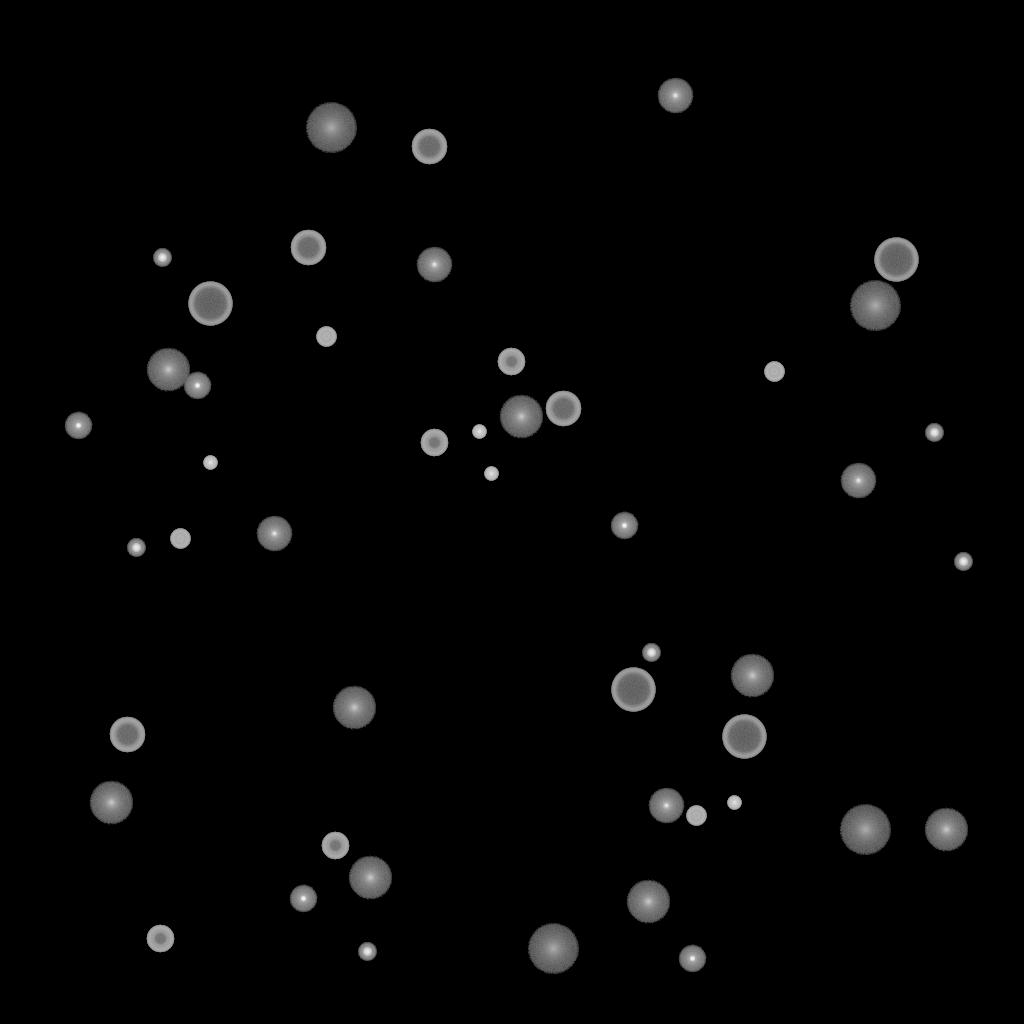depth:-10: (183, 372, 211, 400), (64, 412, 92, 440), (678, 945, 706, 973), (289, 885, 317, 913), (610, 512, 638, 540)
depth:-20: (127, 539, 145, 557), (925, 424, 943, 442), (954, 553, 972, 571), (153, 249, 171, 267), (358, 943, 376, 961), (642, 644, 660, 662)
depth:-30: (472, 425, 486, 439), (727, 796, 741, 810), (484, 467, 498, 481), (203, 456, 217, 470)
depth:-40: (170, 529, 190, 549), (316, 327, 336, 347), (686, 806, 706, 826), (764, 362, 784, 382)
depth:-50: (146, 925, 174, 953), (497, 348, 525, 376), (321, 832, 349, 860), (420, 429, 448, 457)
depth:-60: (411, 129, 447, 165), (109, 717, 145, 753), (290, 230, 326, 266), (545, 391, 581, 427)
depth:-70: (874, 238, 918, 282), (188, 282, 232, 326), (611, 668, 655, 712), (722, 715, 766, 759)
depth:0: (256, 516, 292, 552), (657, 78, 693, 114), (840, 463, 876, 499), (416, 247, 452, 283), (648, 788, 684, 824)
depth:10: (146, 348, 190, 392), (924, 808, 968, 852), (332, 686, 376, 730), (626, 880, 670, 924), (499, 395, 543, 439), (730, 654, 774, 698), (348, 856, 392, 900), (89, 781, 133, 825)
depth:20: (849, 281, 901, 331), (839, 805, 891, 855), (305, 103, 357, 153), (527, 924, 579, 974)
